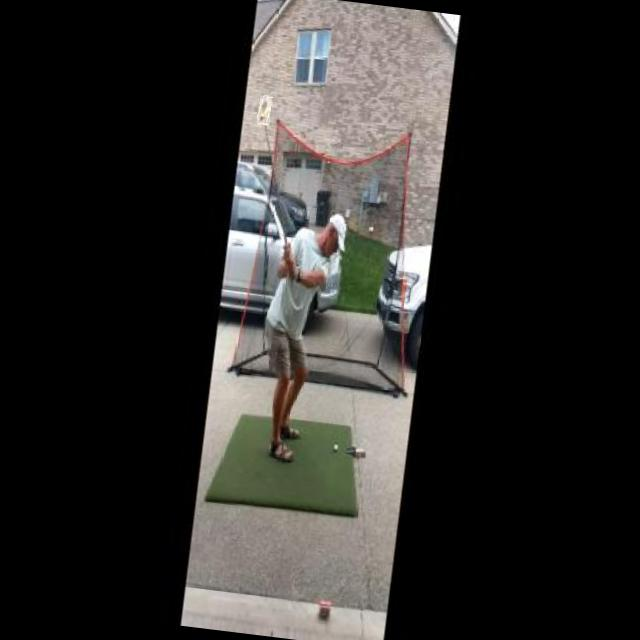club head: (256, 95, 272, 125)
